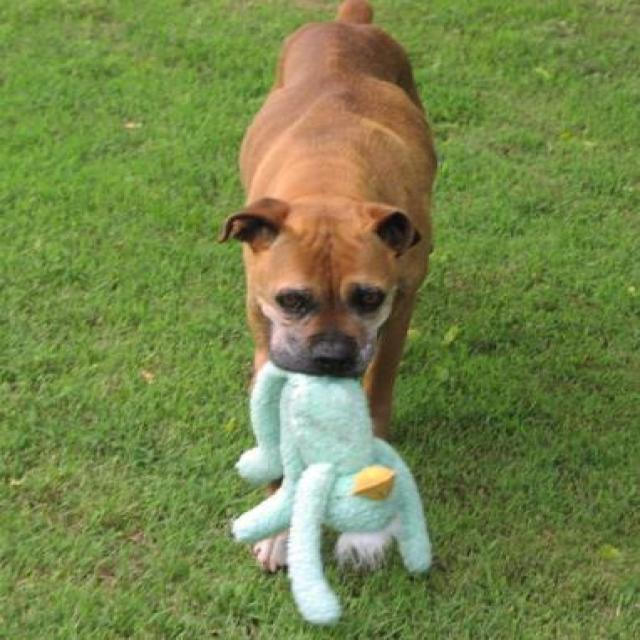Dogs: (216, 0, 439, 576)
